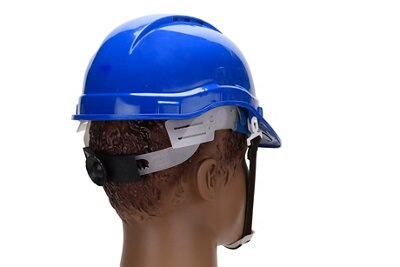casco: (71, 13, 282, 150)
